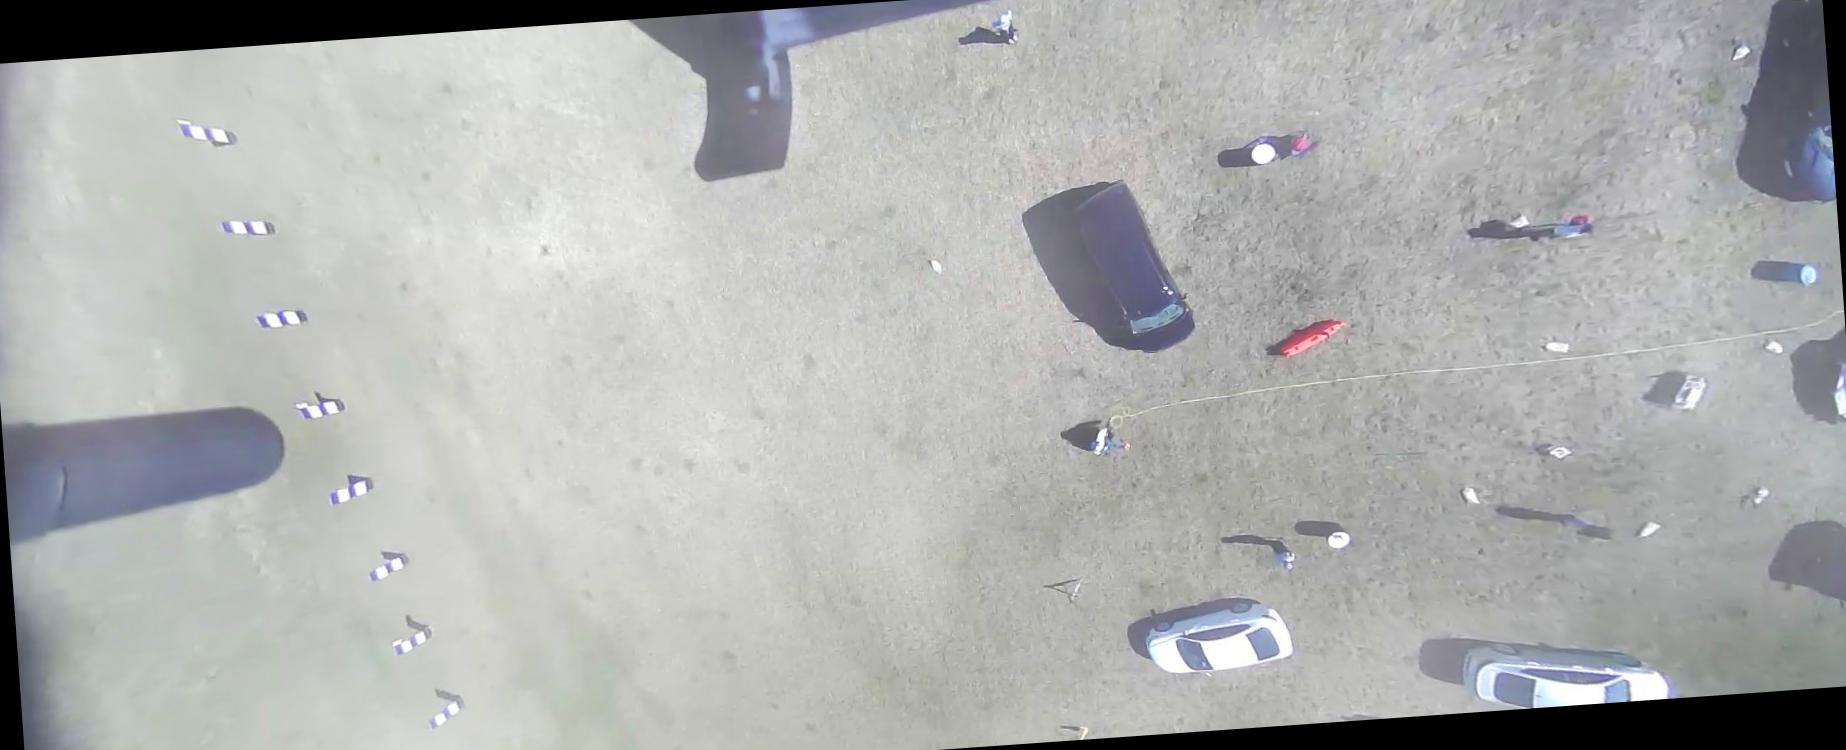vehicle: (1069, 174, 1196, 358), (1457, 630, 1672, 712), (1142, 596, 1295, 683), (1766, 32, 1835, 210), (1805, 525, 1845, 613), (1824, 357, 1845, 429)
